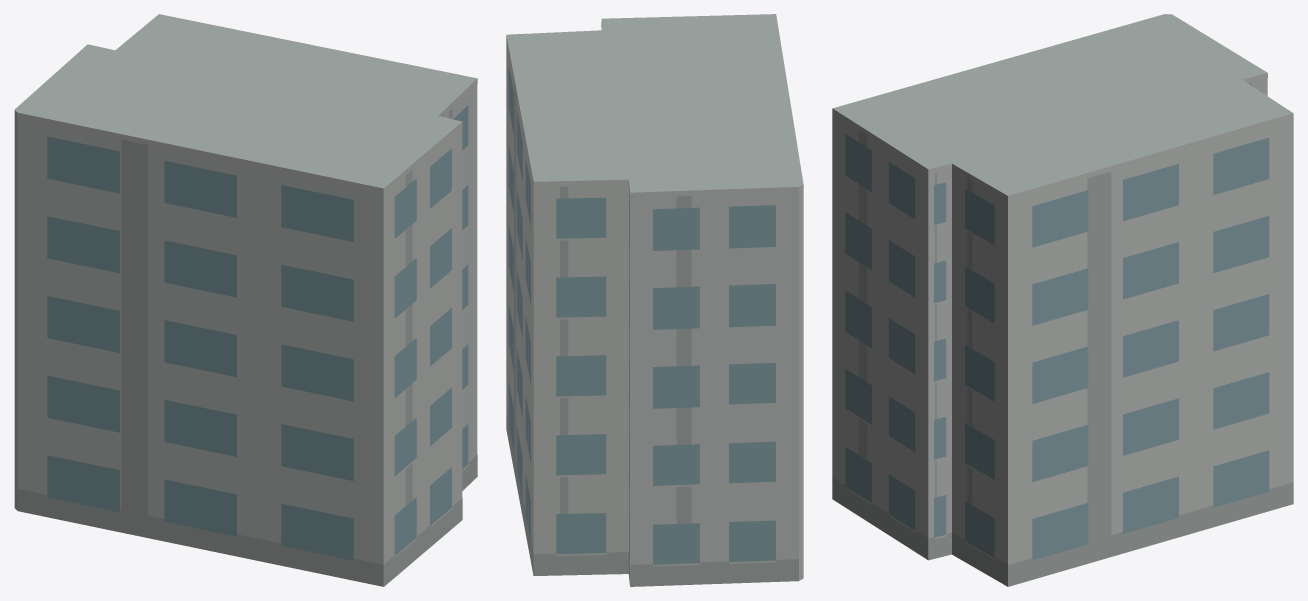
The model's file is survey-upis-32470659.glb.
3 renders of one model, left to right at view 1: azimuth 30°, elevation 25°; view 2: azimuth 150°, elevation 25°; view 3: azimuth 270°, elevation 25°, orthographic.
Visible parts, largest first — view 1: survey-upis-32470659.tmp; view 2: survey-upis-32470659.tmp; view 3: survey-upis-32470659.tmp.
Part boxes in pixels (<box>): survey-upis-32470659.tmp: <box>14,14,477,586</box>; survey-upis-32470659.tmp: <box>506,14,803,586</box>; survey-upis-32470659.tmp: <box>832,14,1293,586</box>.
Size of the model in its own units: 17.76 by 17.78 by 19.02.
